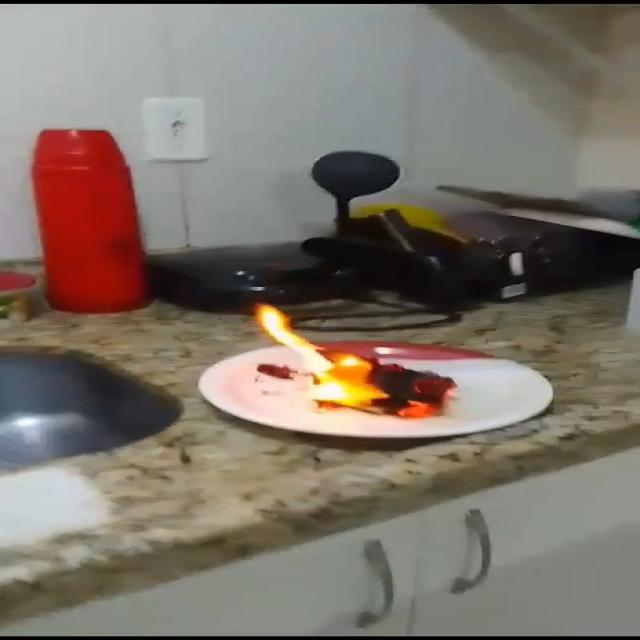fogo-ypXI: (252, 300, 459, 421)
